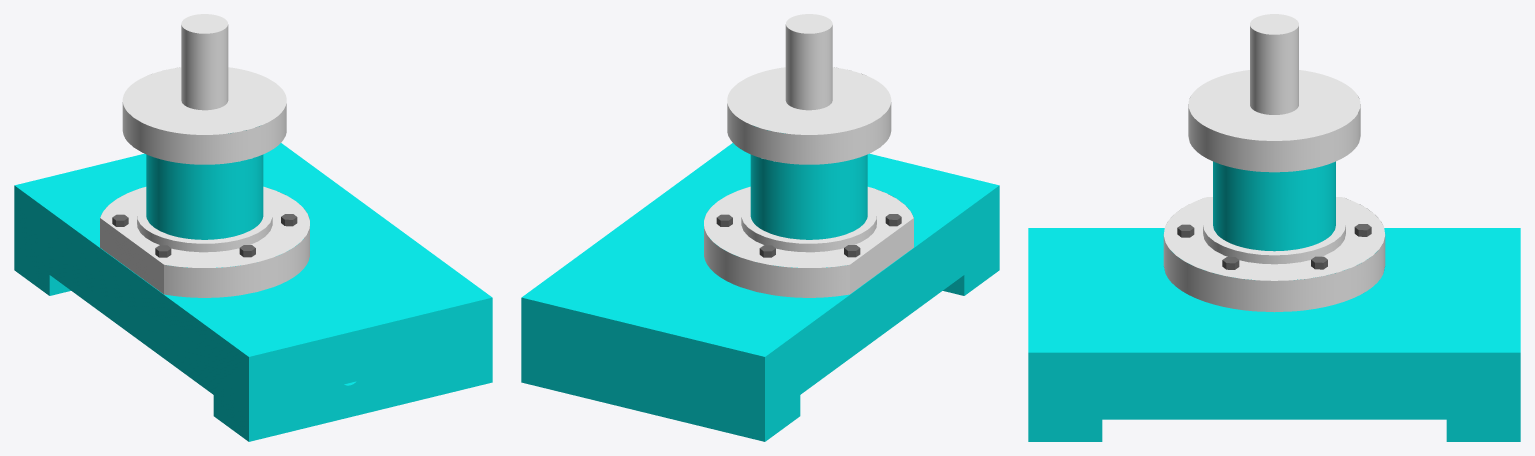
Rendered from slider2.obj.
3 renders of one model, left to right at view 1: azimuth 30°, elevation 25°; view 2: azimuth 150°, elevation 25°; view 3: azimuth 270°, elevation 25°, orthographic. The views are drawn at different scales.
Parts seen in each view (by area): view 1: NONE_DC_Shell; view 2: NONE_DC_Shell; view 3: NONE_DC_Shell.
Part boxes in pixels (box(x1,y1,x2,y2)): NONE_DC_Shell: box(14, 14, 492, 441); NONE_DC_Shell: box(521, 14, 999, 441); NONE_DC_Shell: box(1028, 14, 1520, 441).
Size of the model in its own units: 60 by 74 by 100.
